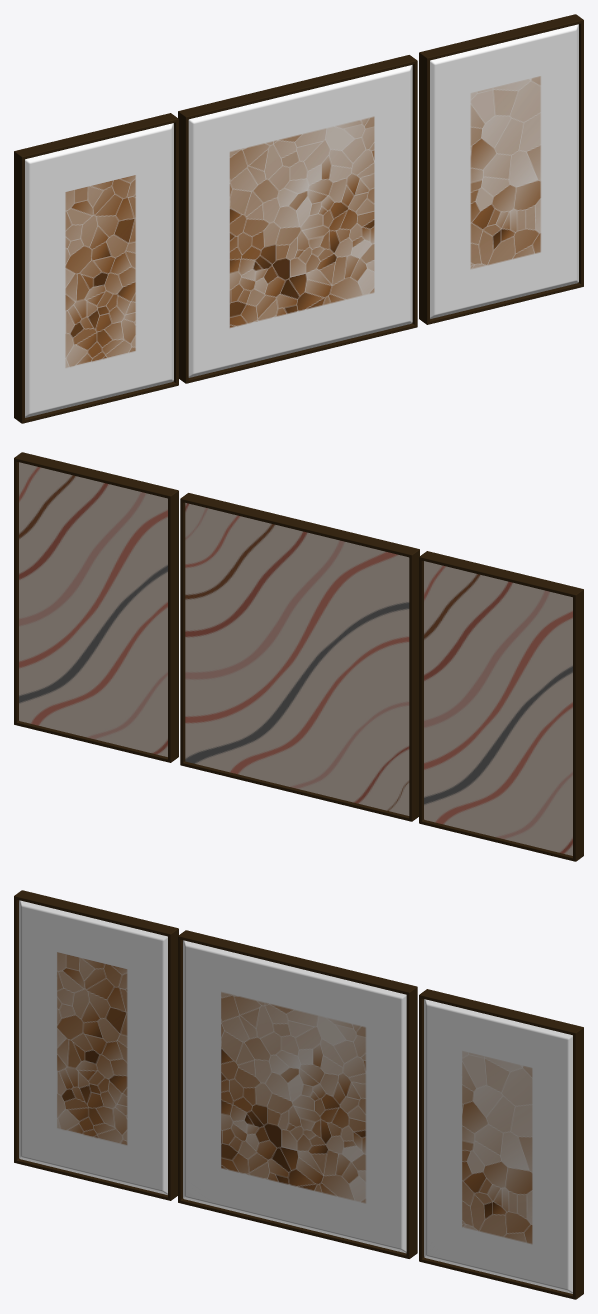
3 renders of one model, top to bottom at view 1: azimuth 30°, elevation 25°; view 2: azimuth 150°, elevation 25°; view 3: azimuth 330°, elevation 25°, orthographic.
Visible parts, largest first — view 1: Frame_Middle_Frames_0, Frame_Right_Frames_0, Frame_Left_Frames_0; view 2: Frame_Middle_Frames_0, Frame_Right_Frames_0, Frame_Left_Frames_0; view 3: Frame_Middle_Frames_0, Frame_Right_Frames_0, Frame_Left_Frames_0.
Boxes of the visible parts, x1=… form: Frame_Middle_Frames_0: x1=178, y1=55, x2=417, y2=383; Frame_Right_Frames_0: x1=419, y1=14, x2=583, y2=324; Frame_Left_Frames_0: x1=14, y1=113, x2=178, y2=423; Frame_Middle_Frames_0: x1=180, y1=493, x2=419, y2=821; Frame_Right_Frames_0: x1=14, y1=452, x2=178, y2=762; Frame_Left_Frames_0: x1=419, y1=551, x2=583, y2=861; Frame_Middle_Frames_0: x1=178, y1=930, x2=417, y2=1258; Frame_Right_Frames_0: x1=419, y1=989, x2=583, y2=1299; Frame_Left_Frames_0: x1=14, y1=890, x2=178, y2=1200.
Bounding box in the file's own units: 1.92 × 0.8735 × 0.0495.
Materials: 1 (1 with a texture image).
